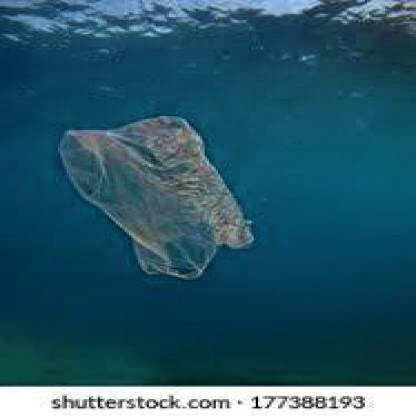pbag: (56, 114, 256, 282)
